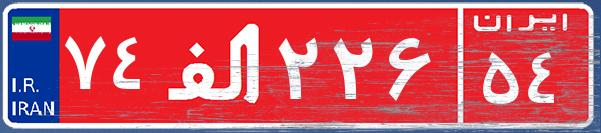2: (273, 28, 330, 110), (330, 28, 385, 110)
4: (110, 28, 158, 105), (525, 38, 570, 115)
5: (475, 38, 525, 113)
6: (385, 28, 445, 110)
7: (57, 26, 110, 107)
الف: (158, 15, 273, 115)
